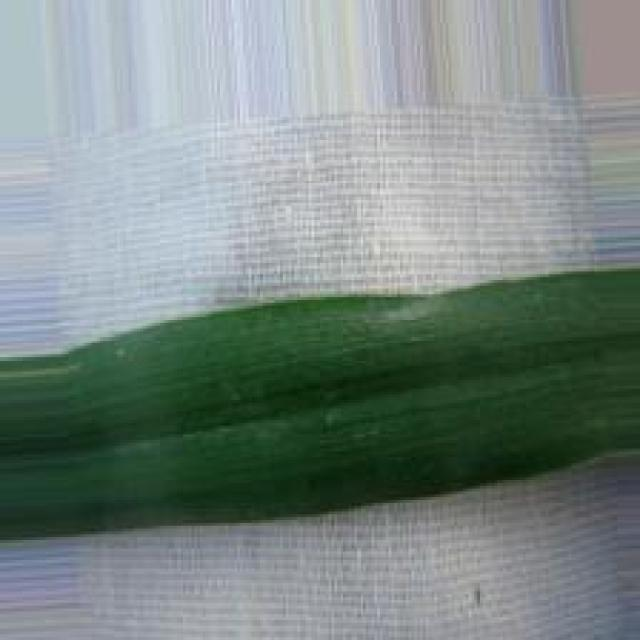Healthy: (0, 266, 640, 543)
